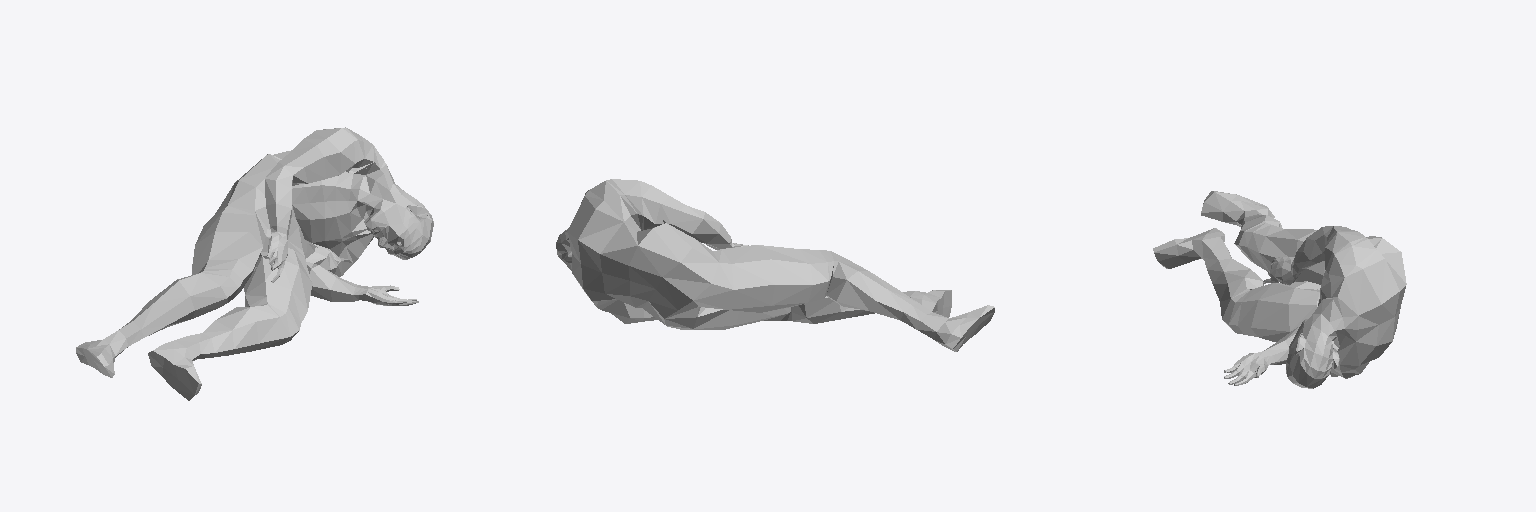
The model's file is PlayerDead(77).obj.
The picture shows the model from 3 angles: view 1: azimuth 30°, elevation 25°; view 2: azimuth 150°, elevation 25°; view 3: azimuth 270°, elevation 25°; orthographic projection.
Visible parts, largest first — view 1: Plane002; view 2: Plane002; view 3: Plane002.
Part boxes in pixels (left/top/right/bottom): Plane002: left=76, top=127, right=433, bottom=400; Plane002: left=556, top=179, right=994, bottom=351; Plane002: left=1153, top=191, right=1406, bottom=388.
Bounding box in the file's own units: 1563 × 564 × 888.